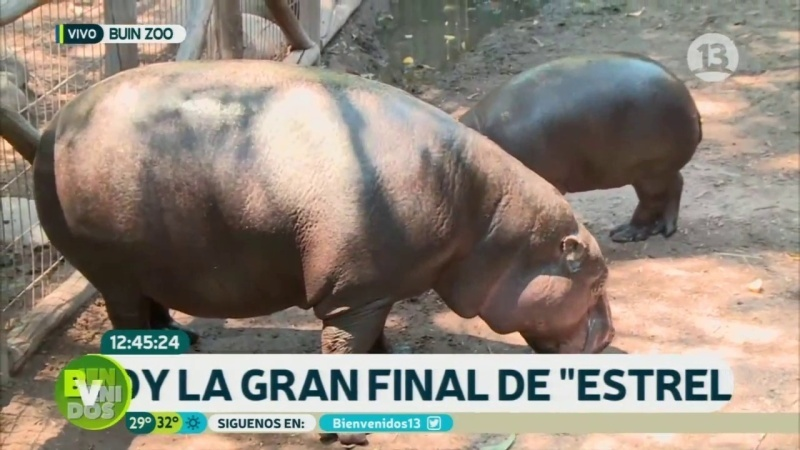hipopotamo: (22, 51, 633, 354), (449, 27, 708, 253)
